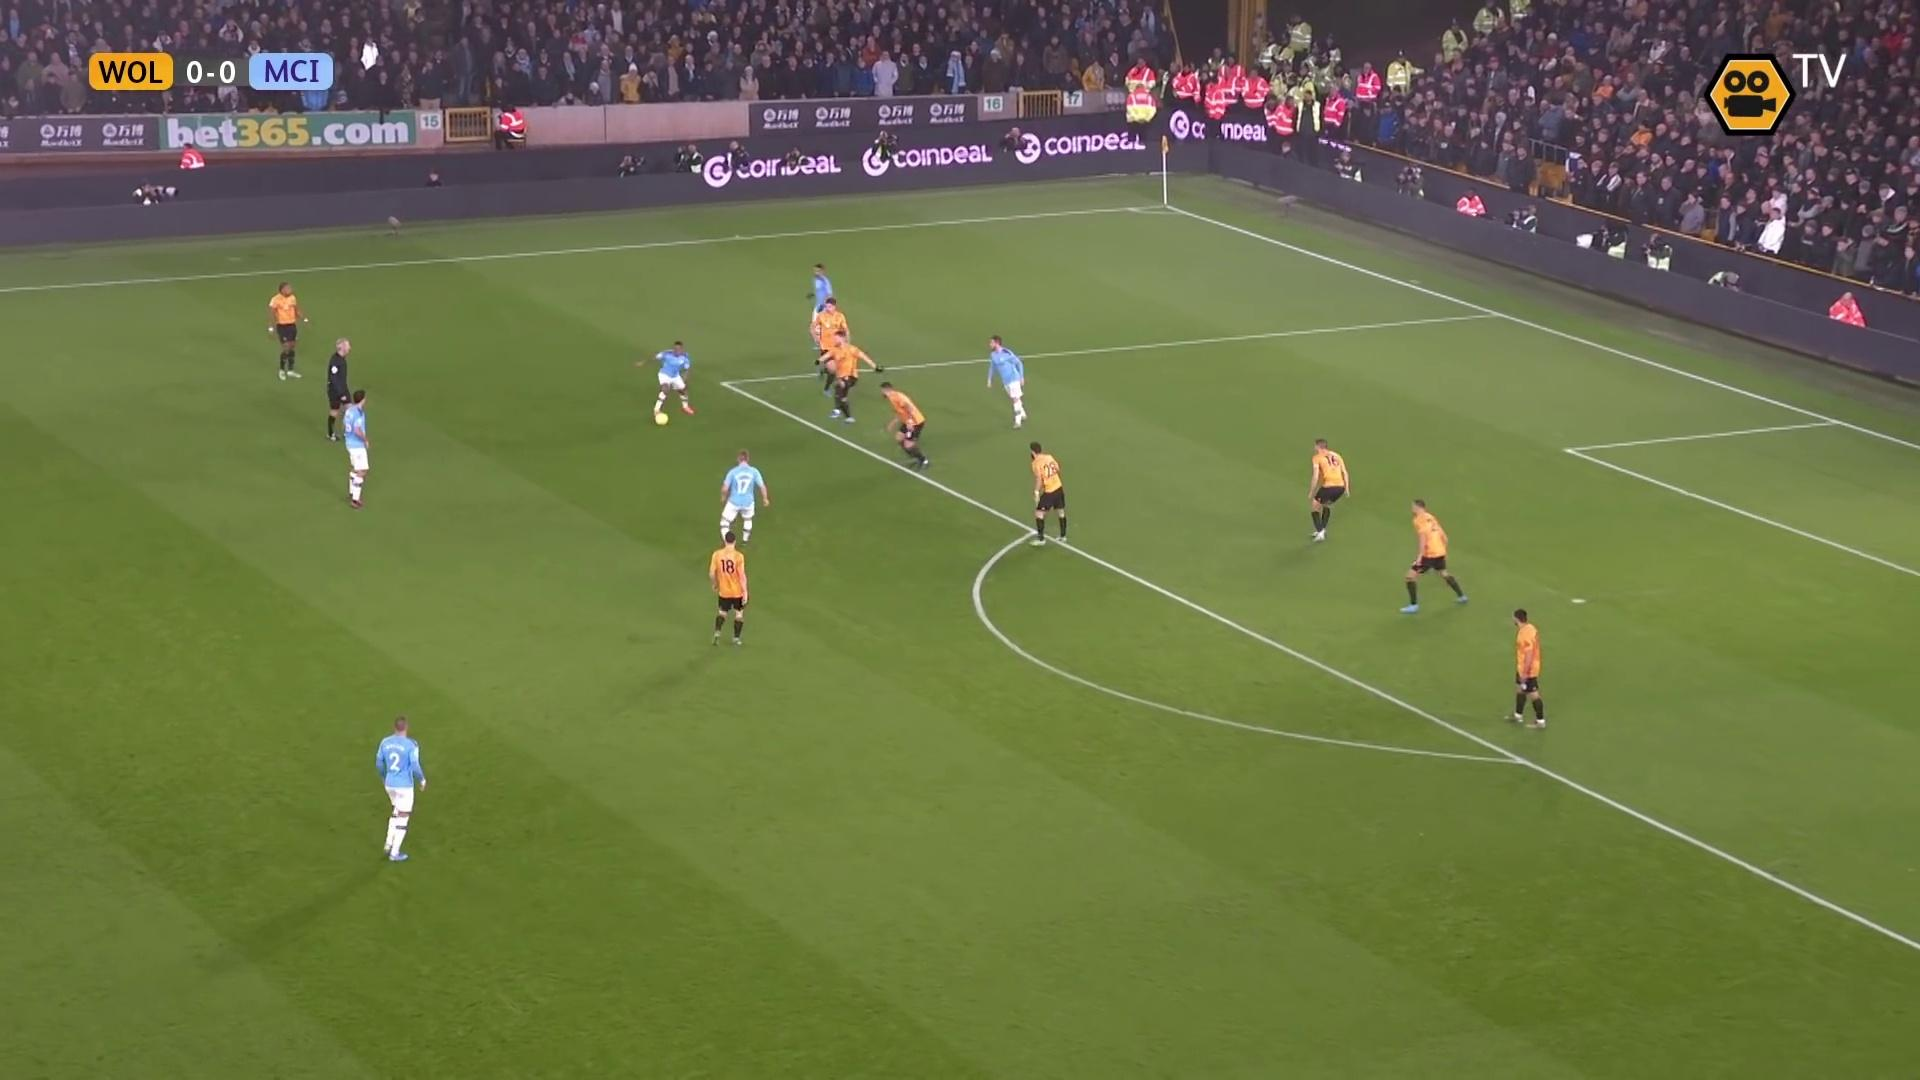ball: (654, 411, 670, 427)
